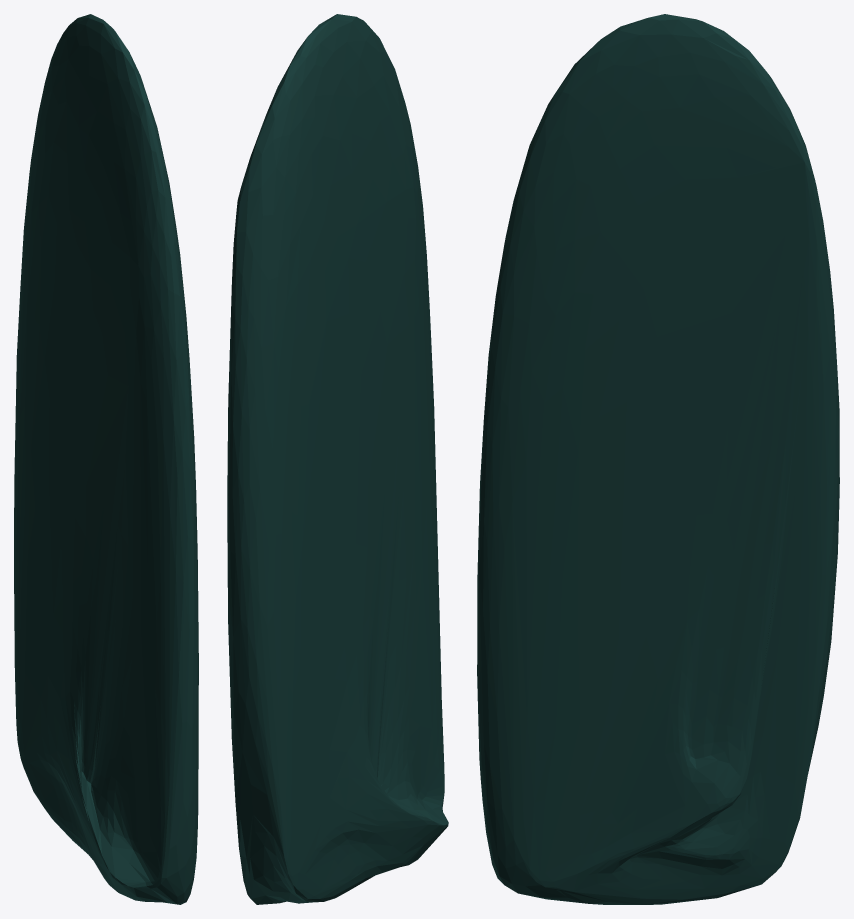
3 renders of one model, left to right at view 1: azimuth 30°, elevation 25°; view 2: azimuth 150°, elevation 25°; view 3: azimuth 270°, elevation 25°, orthographic. The views are drawn at different scales.
Parts seen in each view (by area): view 1: 345_Cube.1408; view 2: 345_Cube.1408; view 3: 345_Cube.1408.
Part boxes in pixels (<box>): 345_Cube.1408: <box>14,14,198,904</box>; 345_Cube.1408: <box>227,14,448,904</box>; 345_Cube.1408: <box>477,14,839,904</box>.
Bounding box in the file's own units: 1.34 × 11.32 × 4.21.
